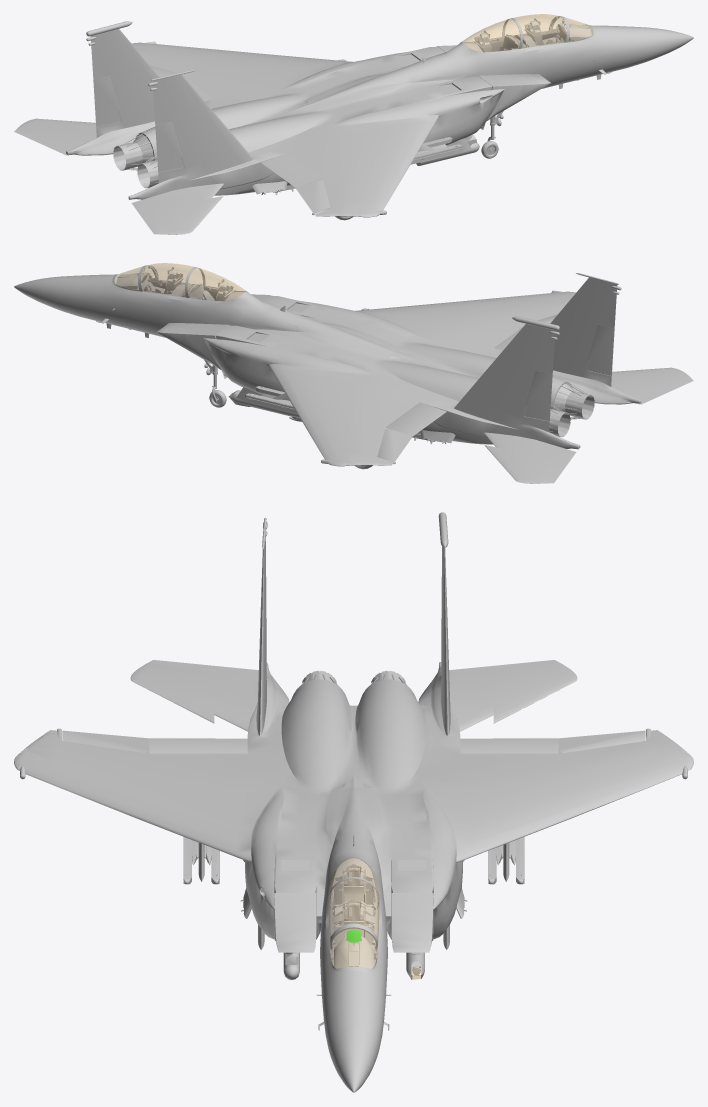
The picture shows the model from 3 angles, top to bottom: view 1: azimuth 30°, elevation 25°; view 2: azimuth 150°, elevation 25°; view 3: azimuth 270°, elevation 25°; orthographic projection. The views are drawn at different scales.
Visible parts, largest first — view 1: F-15E-airframe_0, F-15E-canopy_1, F-15E-cockpit_2, F-15E-landingOn_6; view 2: F-15E-airframe_0, F-15E-canopy_1, F-15E-cockpit_2, F-15E-landingOn_6; view 3: F-15E-airframe_0, F-15E-canopy_1, F-15E-cockpit_2.
Part boxes in pixels (x1,y1,x2,y2): F-15E-airframe_0: (14,16,693,234); F-15E-canopy_1: (462,14,592,51); F-15E-cockpit_2: (461,16,593,52); F-15E-landingOn_6: (335,111,503,220); F-15E-airframe_0: (14,265,693,483); F-15E-canopy_1: (115,263,245,300); F-15E-cockpit_2: (114,265,246,301); F-15E-landingOn_6: (204,360,372,469); F-15E-airframe_0: (14,512,693,1092); F-15E-canopy_1: (328,858,379,968); F-15E-cockpit_2: (328,858,379,968).
Size of the model in its own units: 194 by 59.4 by 131.
